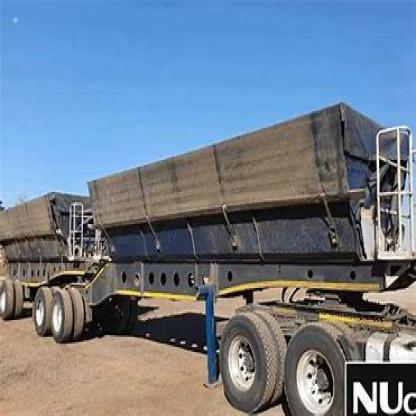dump_truck: (0, 94, 415, 411)
